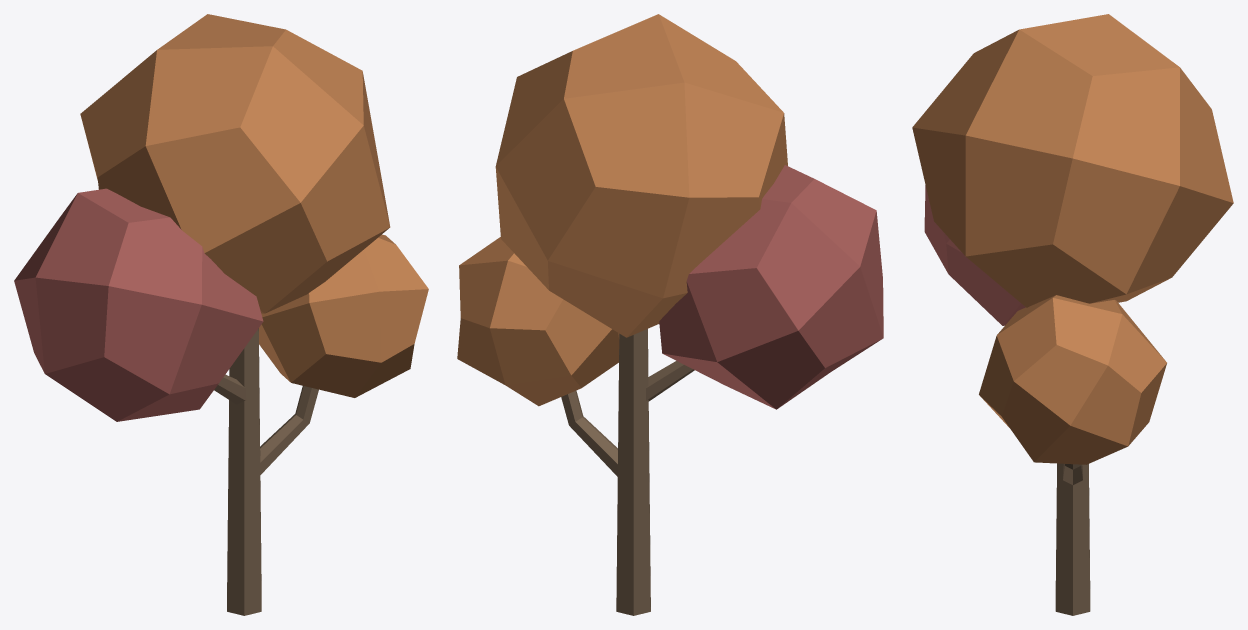
The model's file is Tree_02.fbx.
3 renders of one model, left to right at view 1: azimuth 30°, elevation 25°; view 2: azimuth 150°, elevation 25°; view 3: azimuth 270°, elevation 25°, orthographic.
Parts seen in each view (by area): view 1: Tree_02; view 2: Tree_02; view 3: Tree_02.
Boxes of the visible parts, x1,y1,x2,y2 form: Tree_02: (14, 14, 428, 615); Tree_02: (457, 14, 883, 615); Tree_02: (912, 14, 1233, 615).
Bounding box in the file's own units: 127 × 177 × 89.3.
